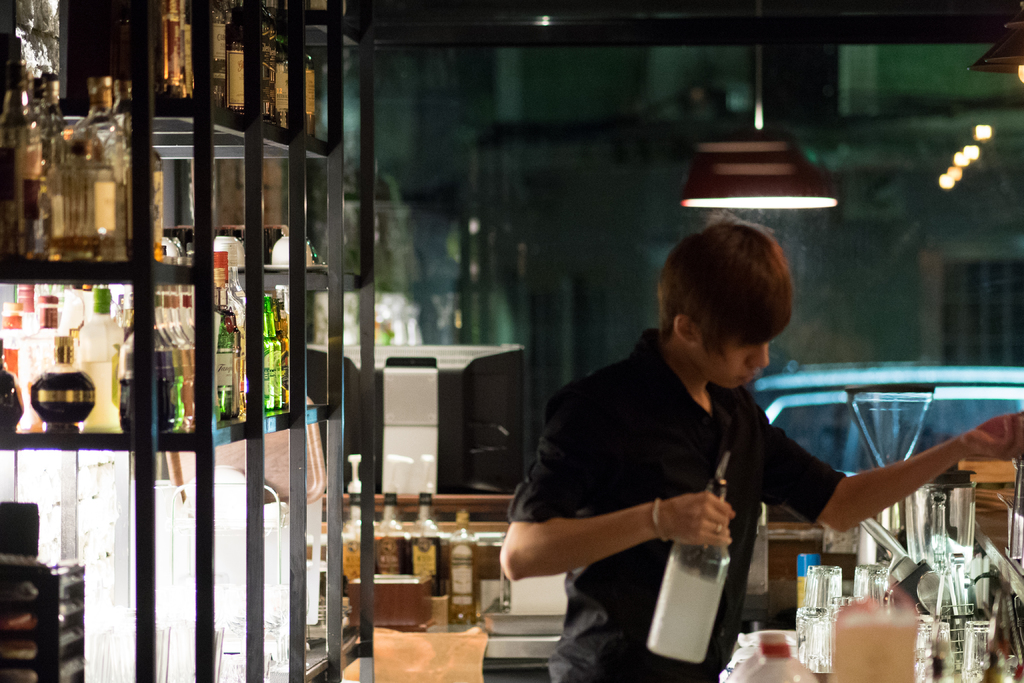Person: (498, 209, 1024, 683)
